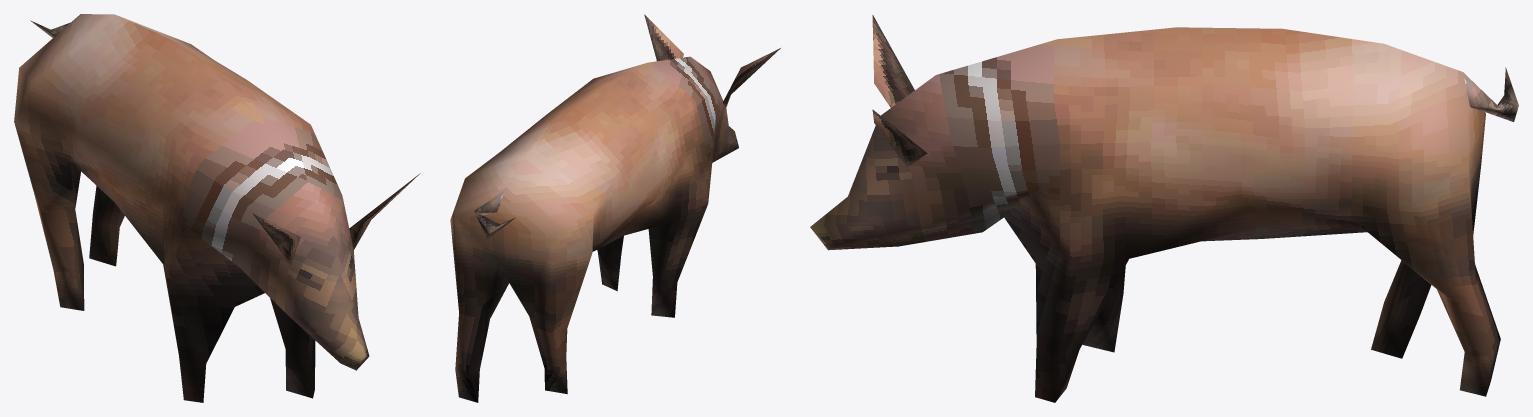
The model's file is pig_base.glb.
The picture shows the model from 3 angles, left to right: view 1: azimuth 30°, elevation 25°; view 2: azimuth 150°, elevation 25°; view 3: azimuth 270°, elevation 25°; orthographic projection. The views are drawn at different scales.
Parts seen in each view (by area): view 1: MeshRoot; view 2: MeshRoot; view 3: MeshRoot.
Part boxes in pixels (bbox=[...]): MeshRoot: bbox=[14, 14, 420, 402]; MeshRoot: bbox=[450, 14, 780, 402]; MeshRoot: bbox=[810, 15, 1518, 402].
Bounding box in the file's own units: 0.5508 × 0.9026 × 1.68.
2 materials, 2 textured.
